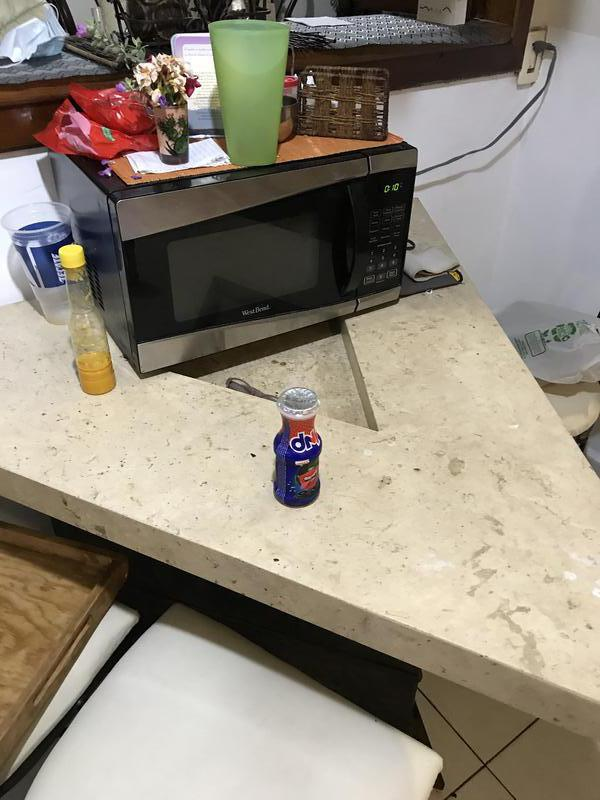danup: (274, 388, 324, 509)
